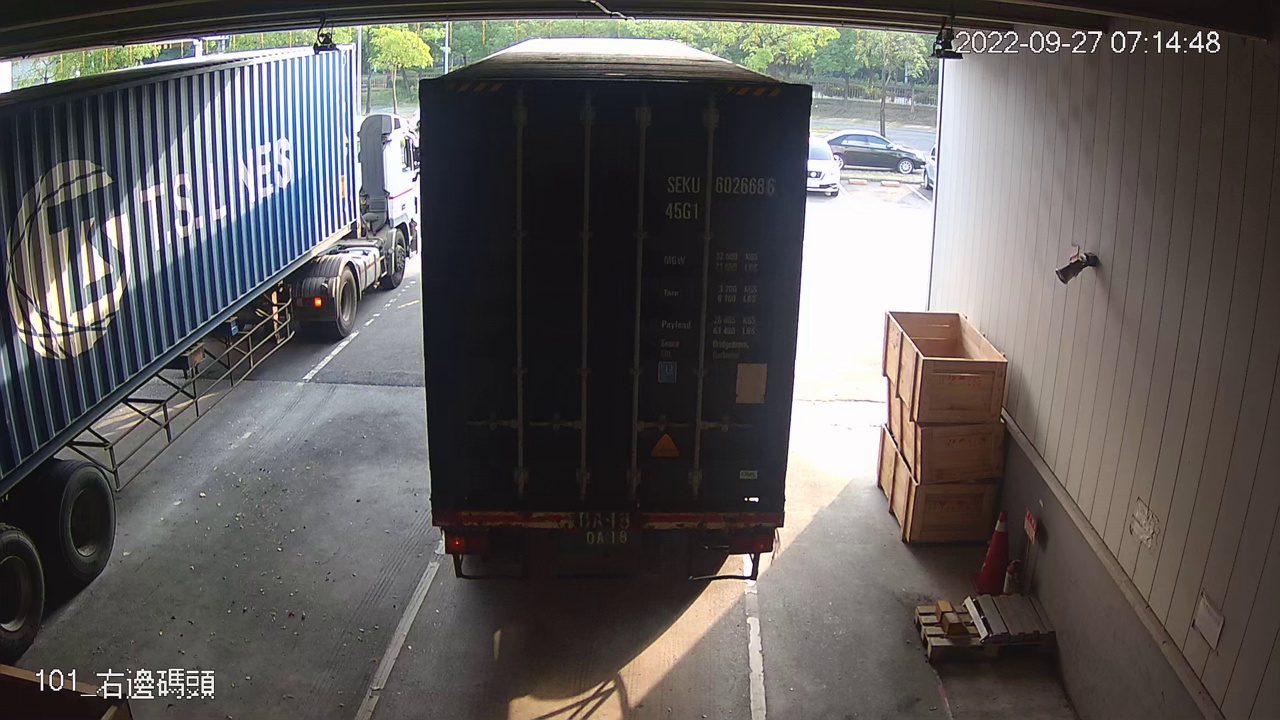container: (659, 170, 781, 228)
